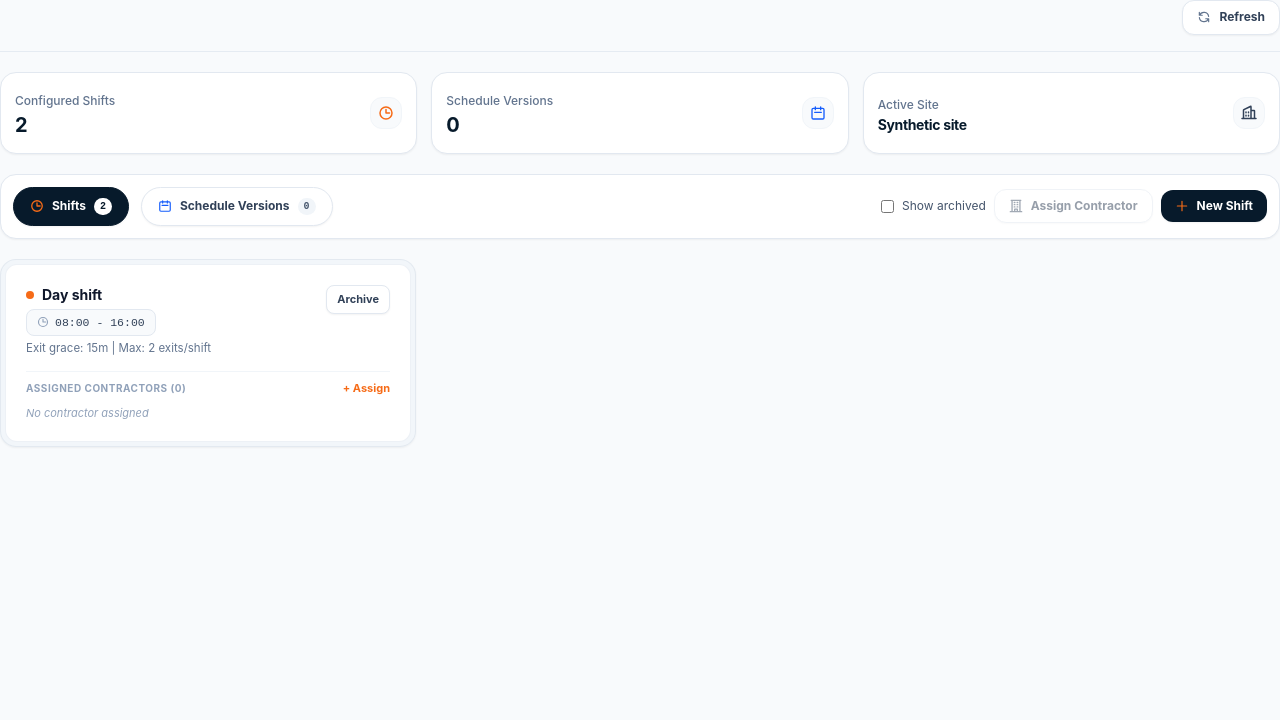
Test case: confirms archival, refreshes the list and retains the archived template for viewing
The width and height of the screenshot is (1280, 720).
Click the button "Archive" at [358, 299], box [326,285,390,314]
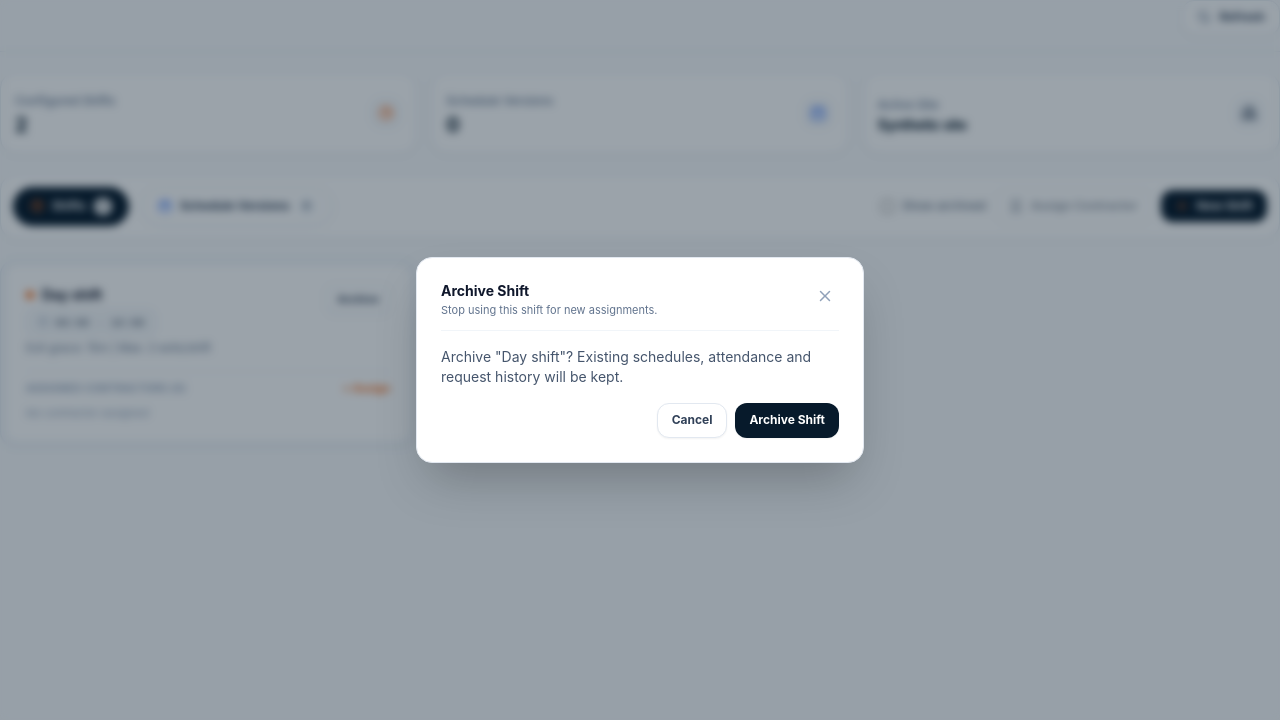
Expected: the text "Existing schedules, attendance and request history will be kept" is shown, [441,348,811,385]
Click the button "Archive Shift" at [787, 421], box [735,403,839,438]
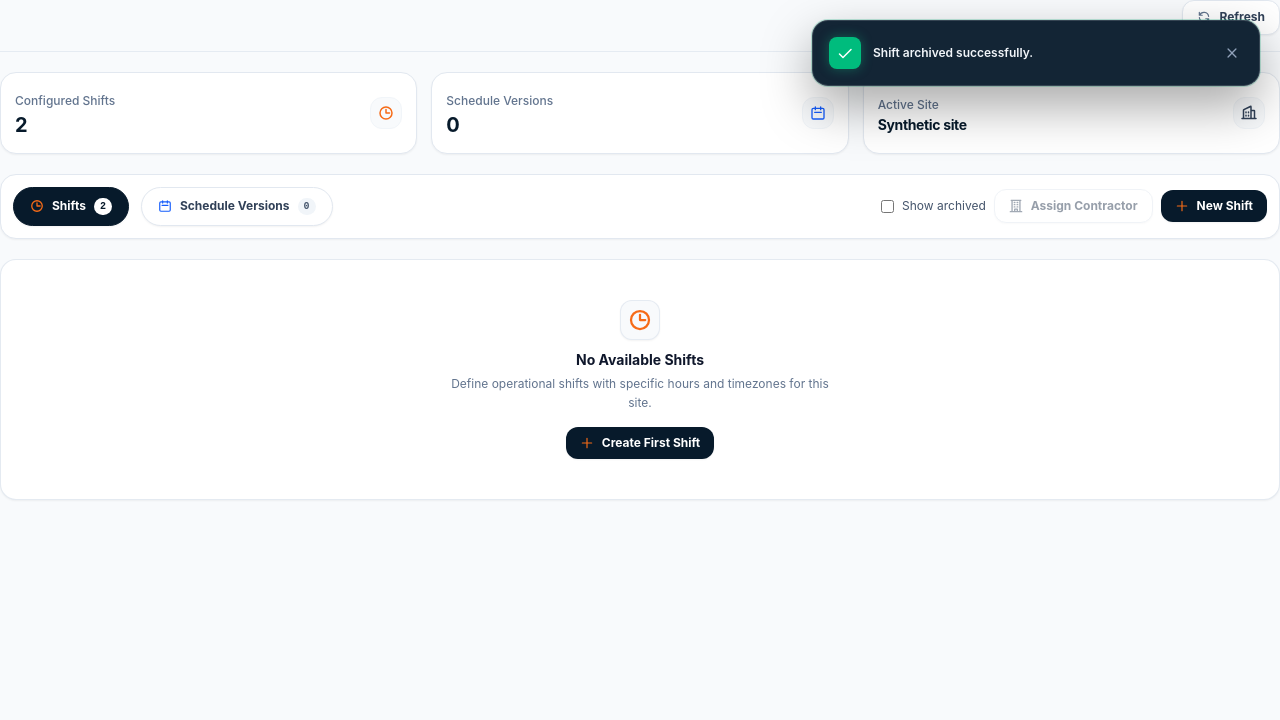
Expected: the heading "Day shift" is gone
Click the checkbox labelled "Show archived" at [888, 206], box [881,200,894,213]
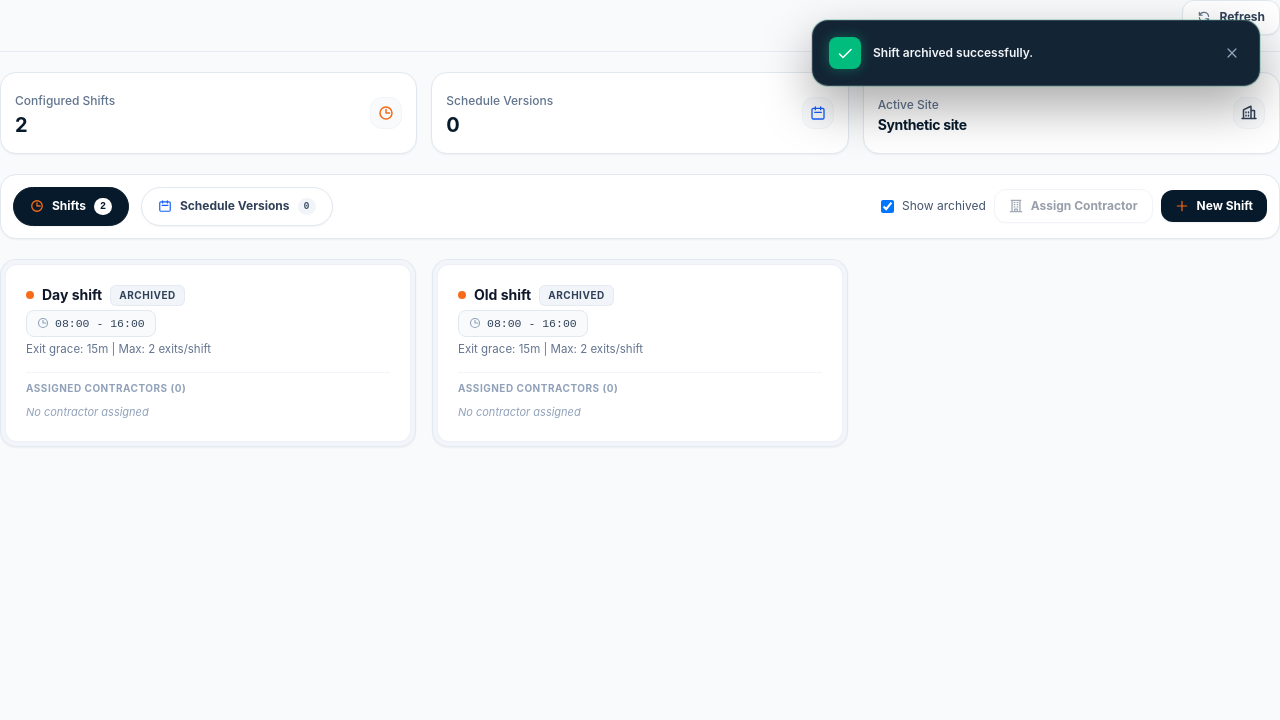
Expected: the heading "Day shift" is shown, [42,285,102,305]
